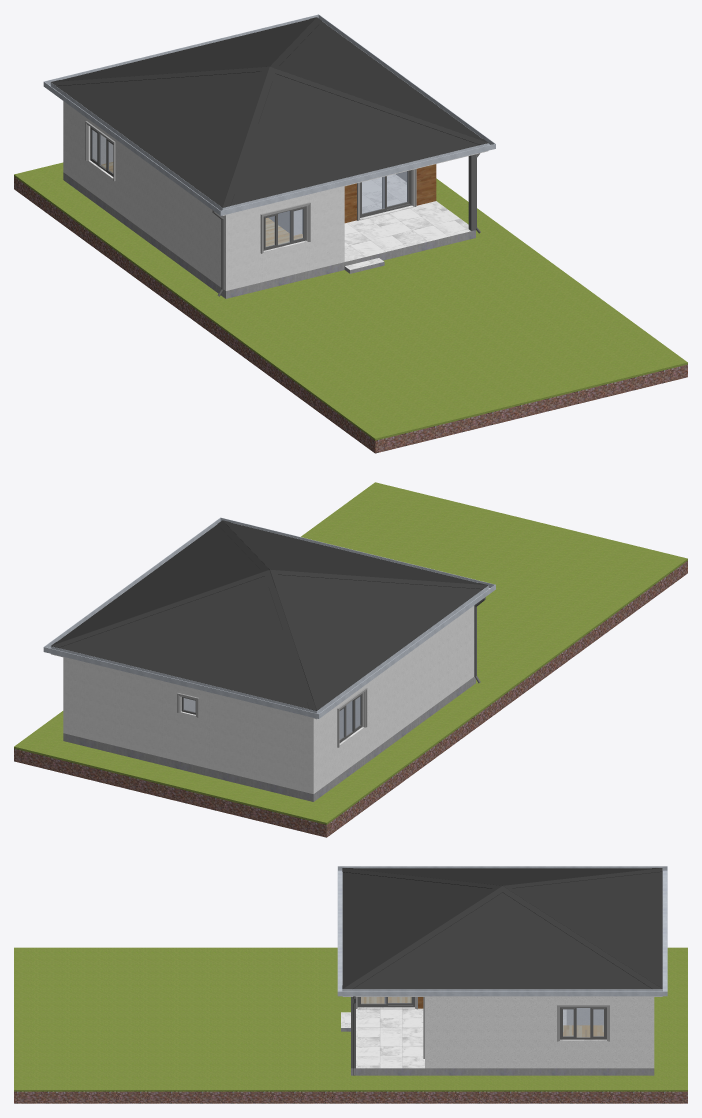
The picture shows the model from 3 angles, top to bottom: view 1: azimuth 30°, elevation 25°; view 2: azimuth 150°, elevation 25°; view 3: azimuth 270°, elevation 25°; orthographic projection. The views are drawn at different scales.
Parts seen in each view (by area): view 1: Model, Group1, Componen10, Componen13, Componen11; view 2: Model, Group1, Componen11; view 3: Model, Group1, Componen12, Componen14.
Part boxes in pixels (<box>): Model: <box>14,101,687,453</box>; Group1: <box>43,14,495,215</box>; Componen10: <box>260,202,310,253</box>; Componen13: <box>360,170,413,220</box>; Componen11: <box>85,121,115,181</box>; Model: <box>14,482,687,837</box>; Group1: <box>43,517,495,719</box>; Componen11: <box>337,687,367,747</box>; Model: <box>14,947,687,1103</box>; Group1: <box>337,866,667,996</box>; Componen12: <box>557,1004,609,1041</box>; Componen14: <box>357,997,414,1009</box>.
Bounding box in the file's own units: 1000 × 480 × 2000.
Materials: 15 (8 with a texture image).
